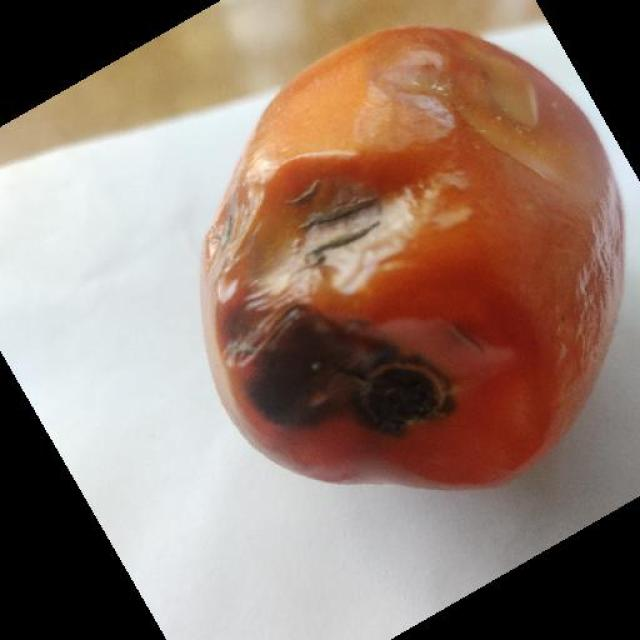Stale_tomato: (211, 55, 604, 487)
